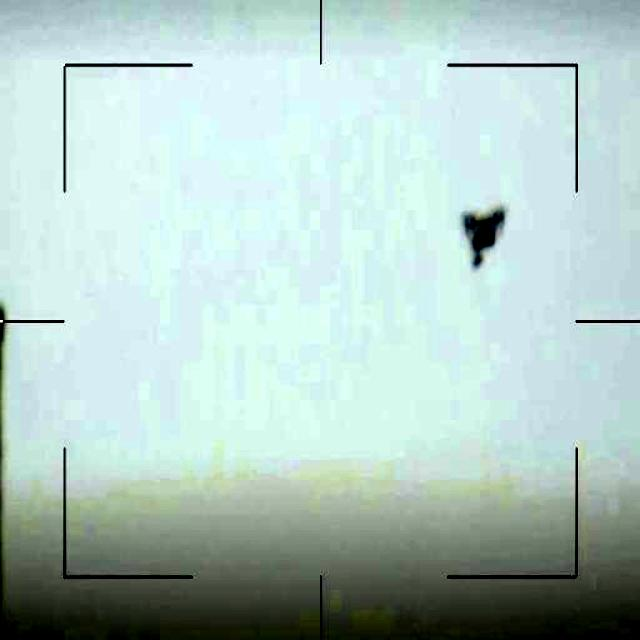bird: (459, 195, 512, 275)
